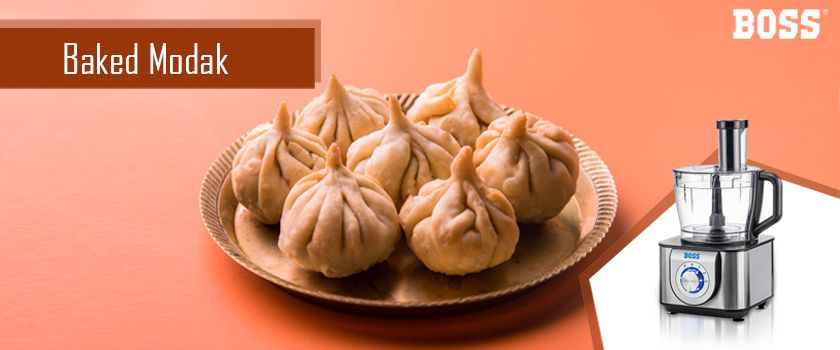modak: (454, 110, 595, 222), (276, 156, 403, 271), (400, 167, 521, 275), (347, 102, 465, 199), (235, 112, 334, 209)
